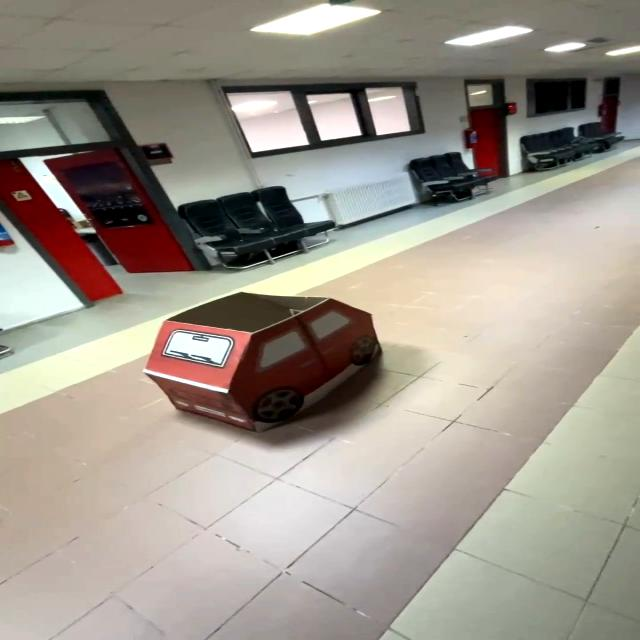red_car: (133, 274, 421, 434)
